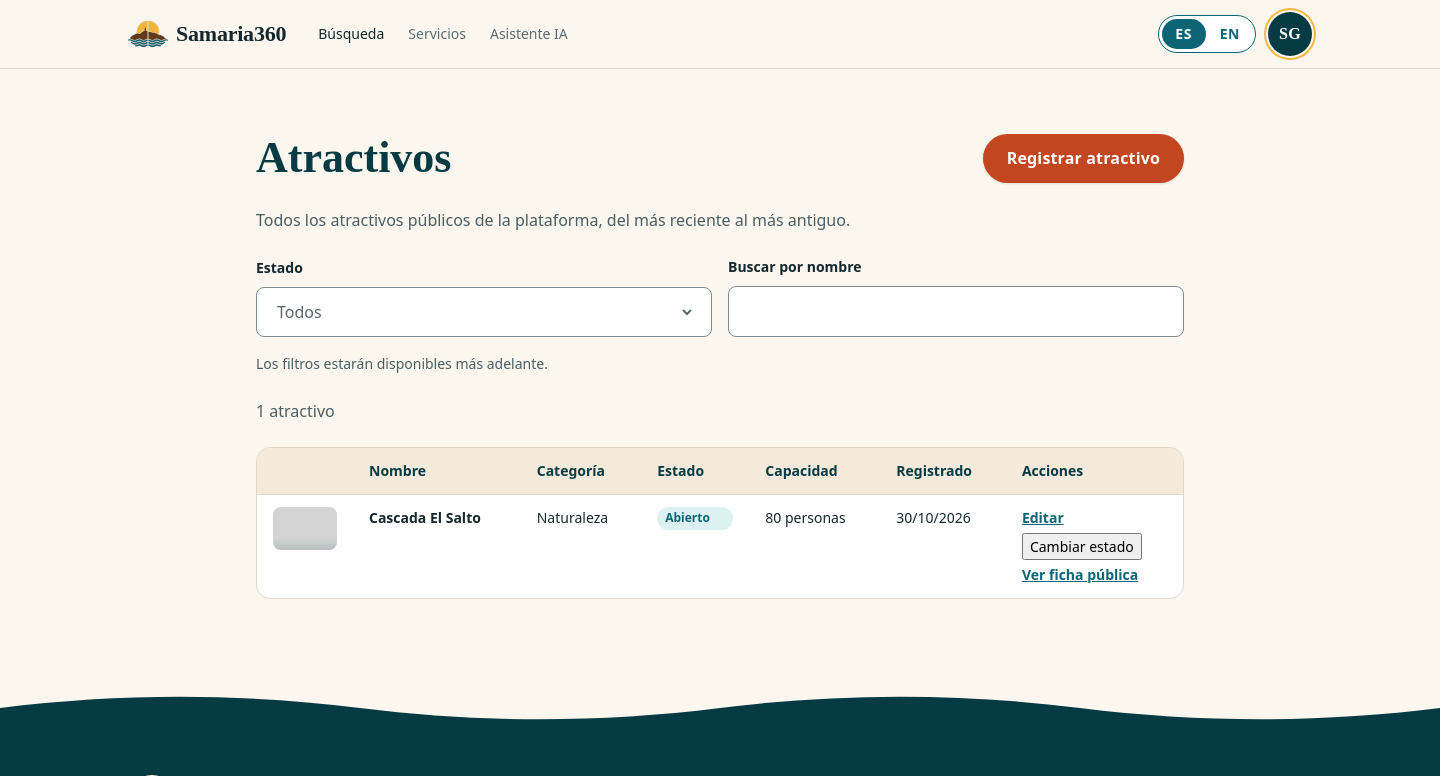
Scenario: Cambiar estado operativo › con 409 y el mismo estado elegido por otro gestor, avisa y solo queda cerrar
Click the button with aria-label "Cambiar el estado de Cascada El Salto" at (1082, 547), box [1022, 533, 1142, 560]
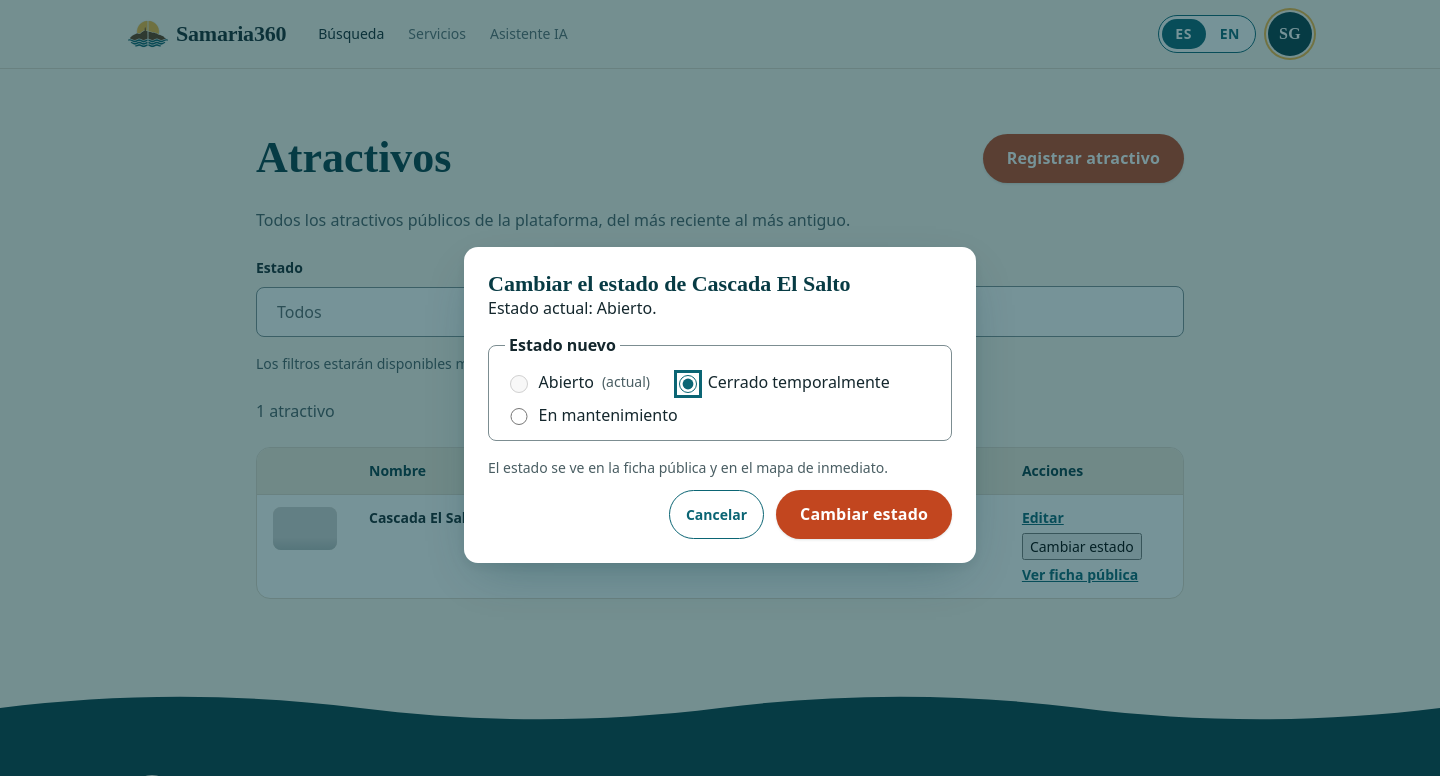
Click the radio button labelled "En mantenimiento" at (519, 417), box [510, 408, 528, 425]
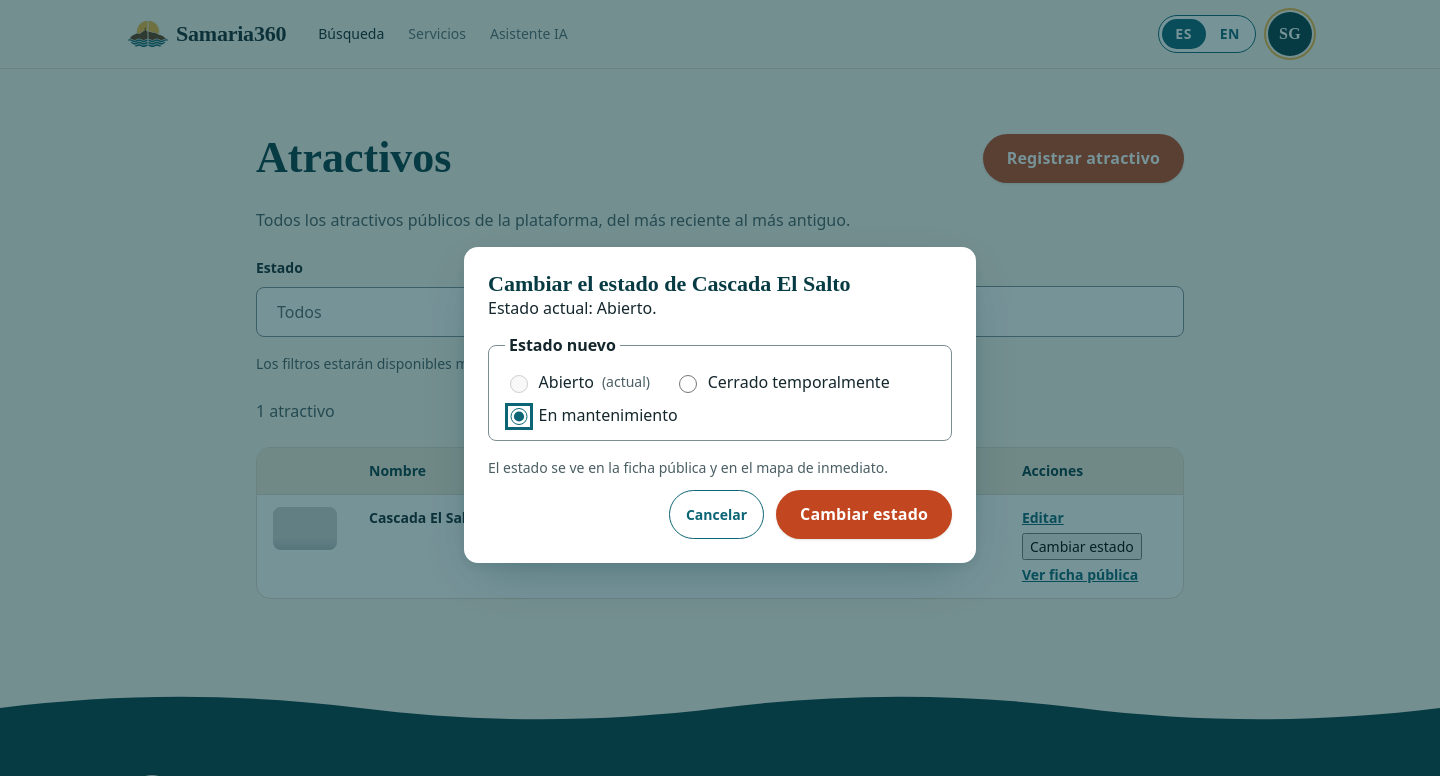
Click the button "Cambiar estado" at (864, 515), box [776, 490, 952, 539]
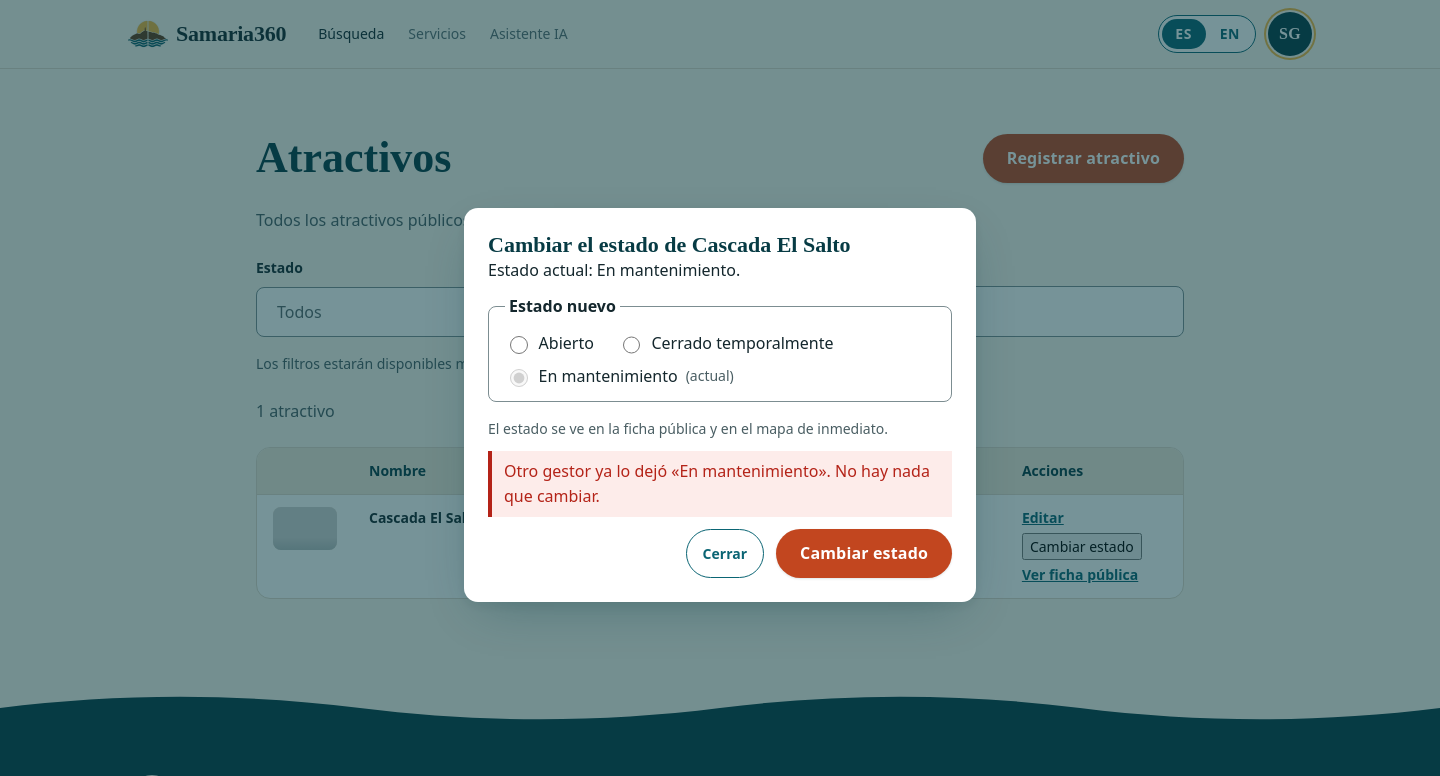
Check: the text "Otro gestor ya lo dejó «En mantenimiento». No hay nada que cambiar." is shown, box [488, 451, 952, 517]
Check: the button "Cambiar estado" is disabled, box [776, 529, 952, 578]
Click the button "Cerrar" at (725, 553), box [686, 529, 764, 578]
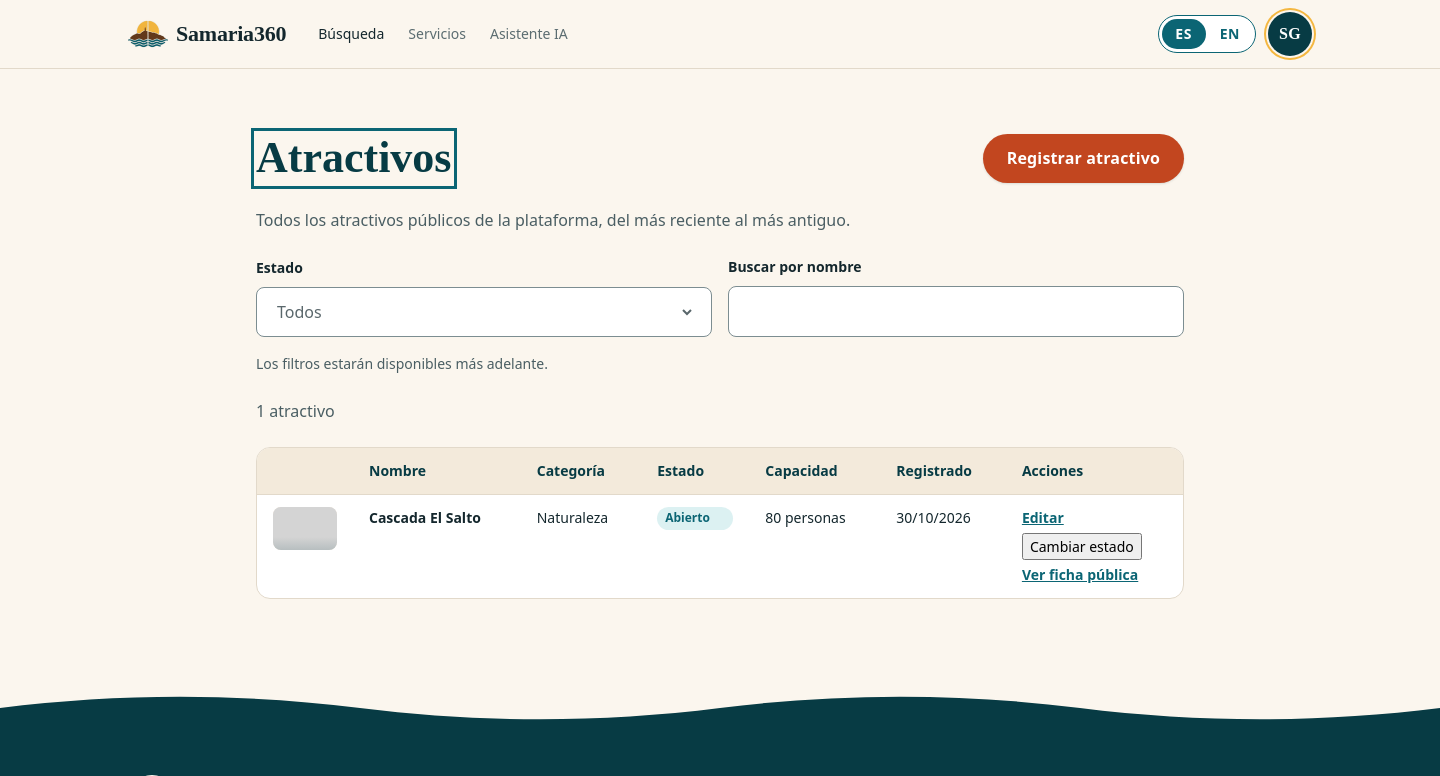
Check: the dialog is gone
